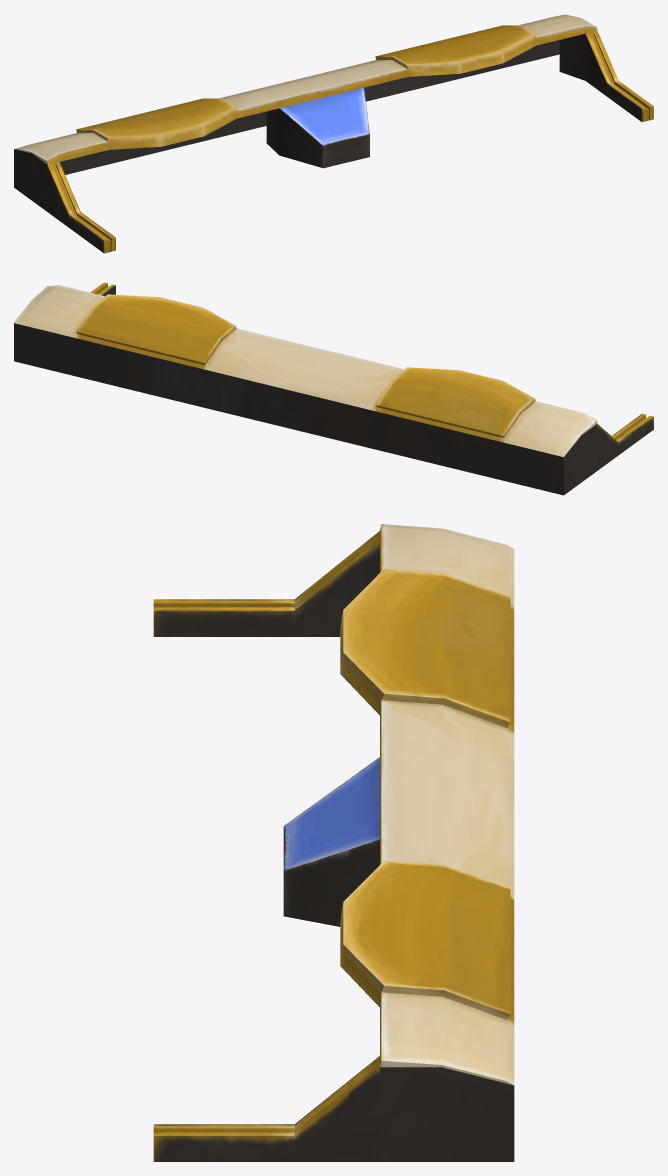
File: PortalCover.fbx
3 renders of one model, top to bottom at view 1: azimuth 30°, elevation 25°; view 2: azimuth 150°, elevation 25°; view 3: azimuth 270°, elevation 25°, orthographic. The views are drawn at different scales.
Parts seen in each view (by area): view 1: Box077; view 2: Box077; view 3: Box077.
Boxes of the visible parts, bbox=[...] form: Box077: bbox=[14, 14, 653, 253]; Box077: bbox=[14, 282, 653, 495]; Box077: bbox=[153, 524, 514, 1161].
Size of the model in its own units: 119 by 12 by 33.69.
1 material, 1 textured.
